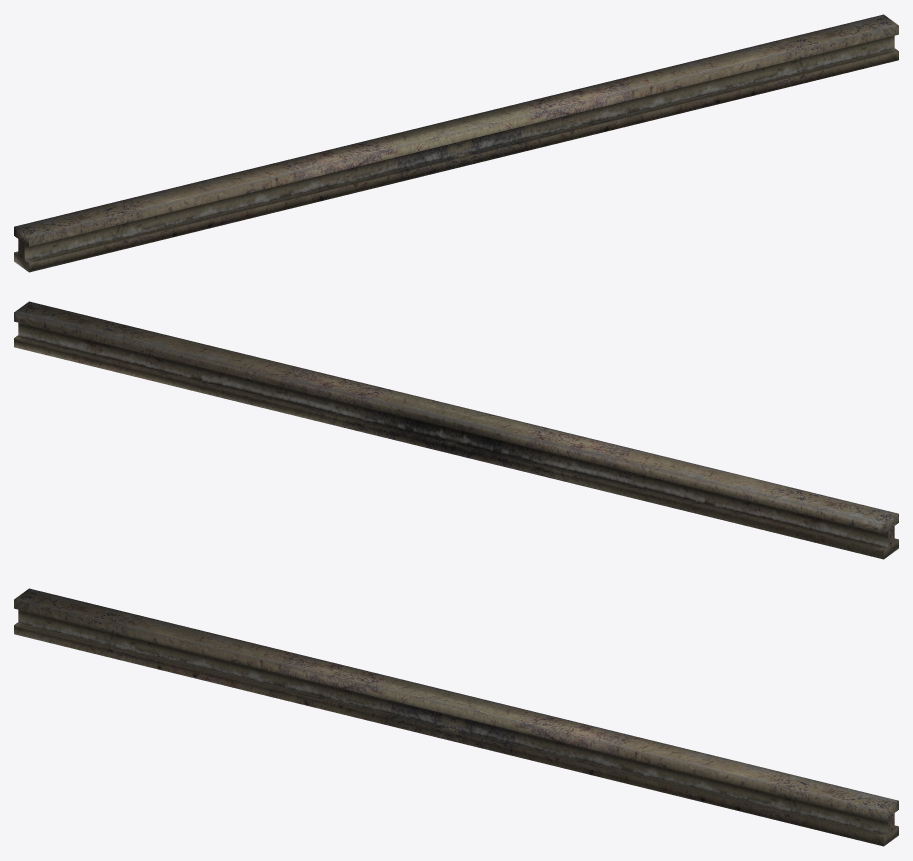
Rendered from iron rod.fbx.
The picture shows the model from 3 angles, top to bottom: view 1: azimuth 30°, elevation 25°; view 2: azimuth 150°, elevation 25°; view 3: azimuth 330°, elevation 25°; orthographic projection.
Visible parts, largest first — view 1: rod; view 2: rod; view 3: rod.
Boxes of the visible parts, x1,y1,x2,y2 form: rod: [14, 14, 898, 272]; rod: [14, 301, 898, 559]; rod: [14, 588, 898, 846].
Bounding box in the file's own units: 14949 × 570 × 451.
1 material, 1 textured.
